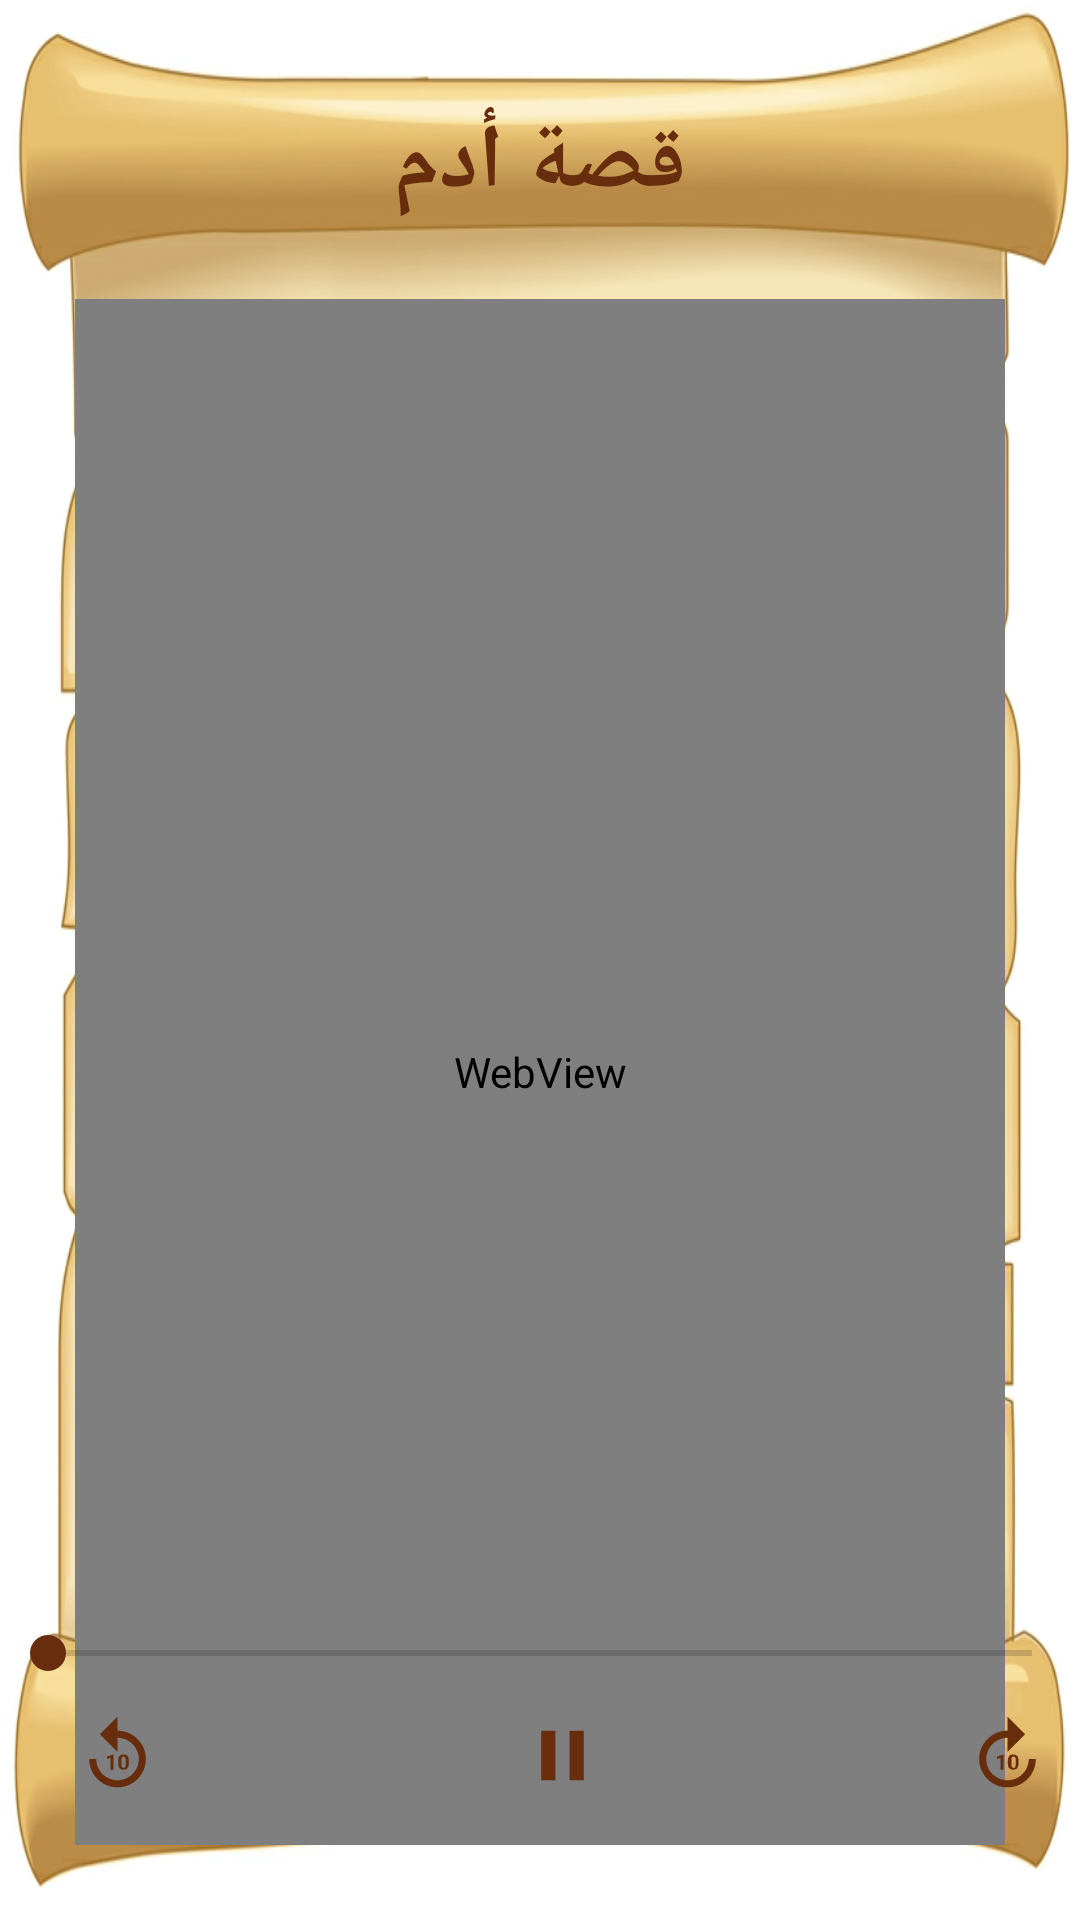

Locate icon controls on the screen. Image size 1080*1920, boxes as (x1, y1, x2, y2).
pause: (541, 1730, 584, 1781)
replay: (89, 1717, 146, 1788)
